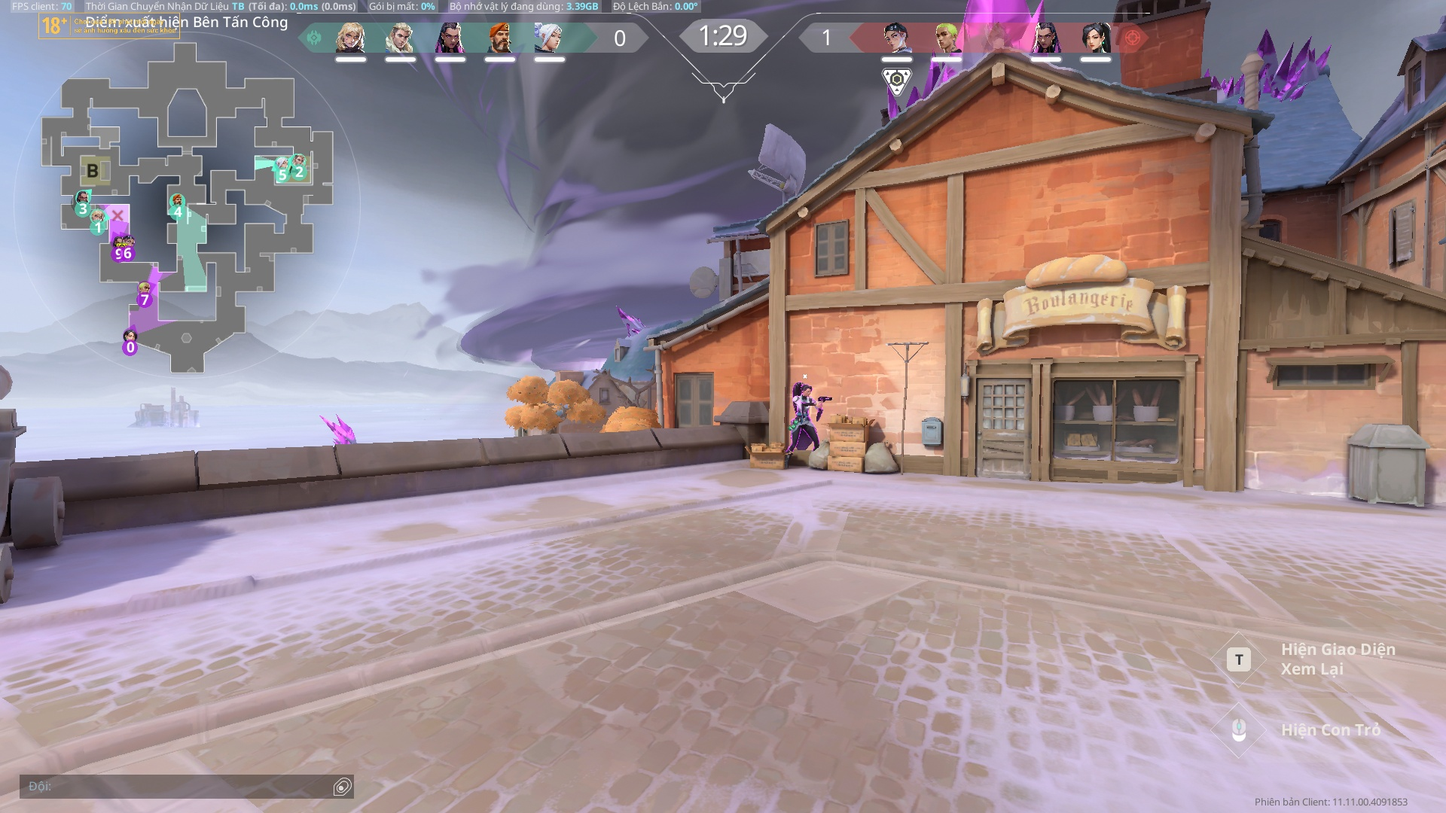body: (792, 395, 812, 417)
head: (801, 384, 811, 398)
